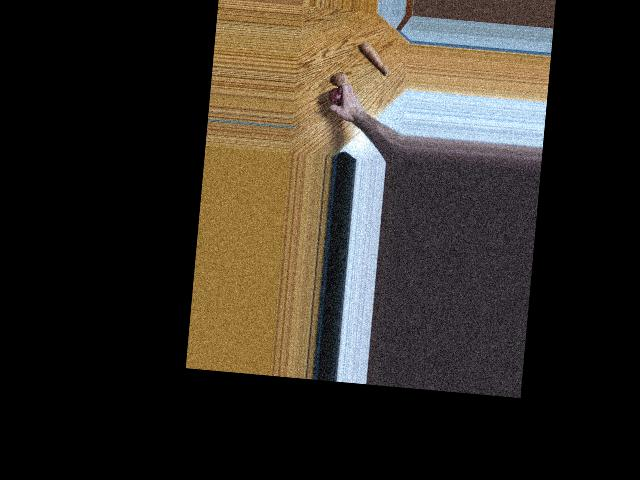onion: (331, 70, 349, 87)
